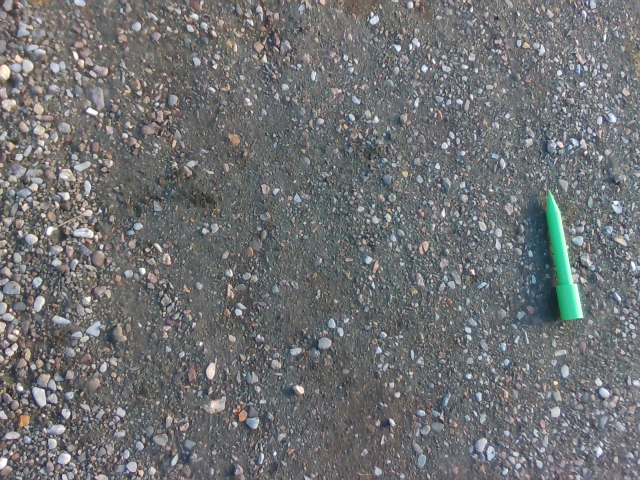Probe: (540, 182, 591, 327)
